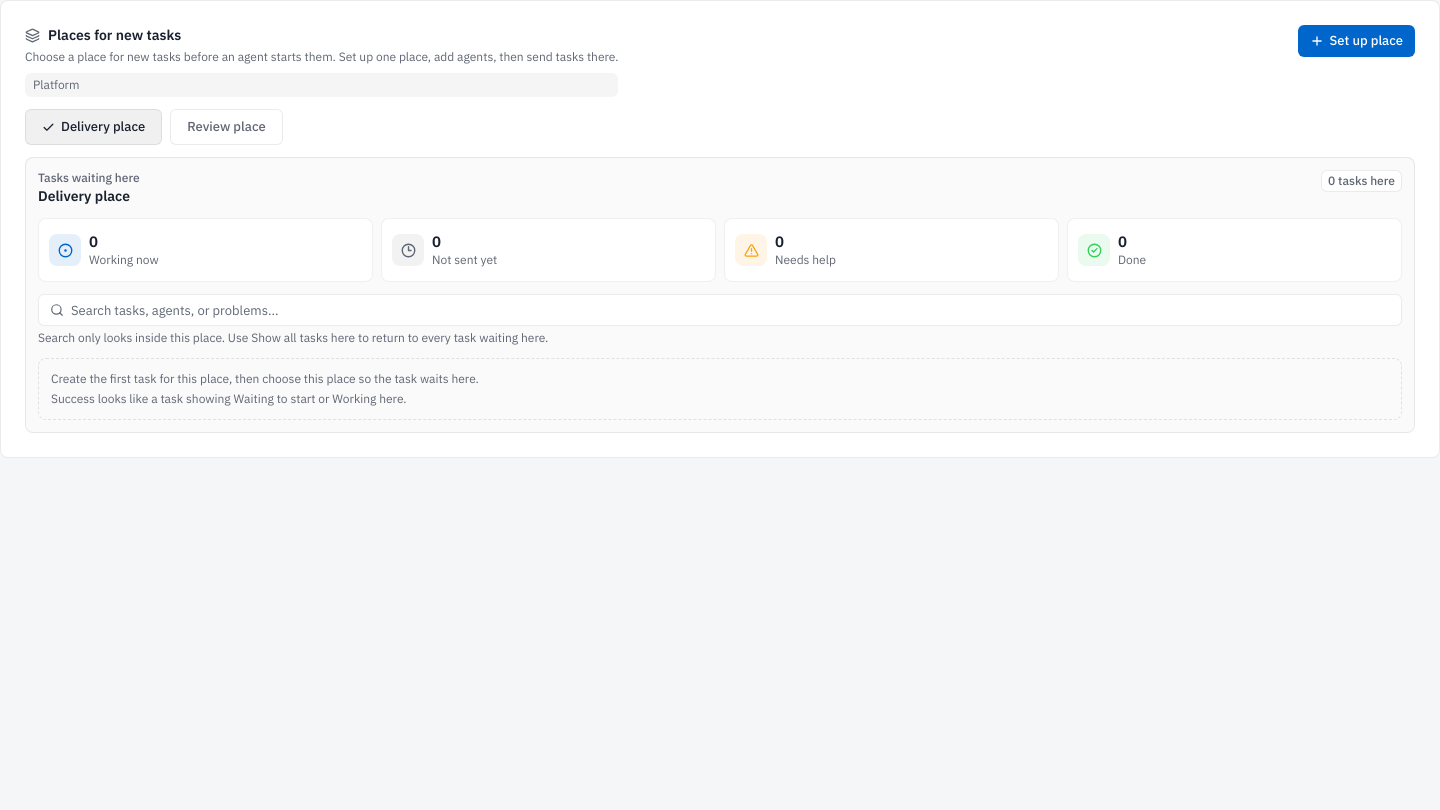
AgentGroupsPanel › explains task queue creation permission failures with a next step
The width and height of the screenshot is (1440, 810).
Click the button "Set up place" at [1356, 41], box x1=1298 y1=25 x2=1415 y2=57
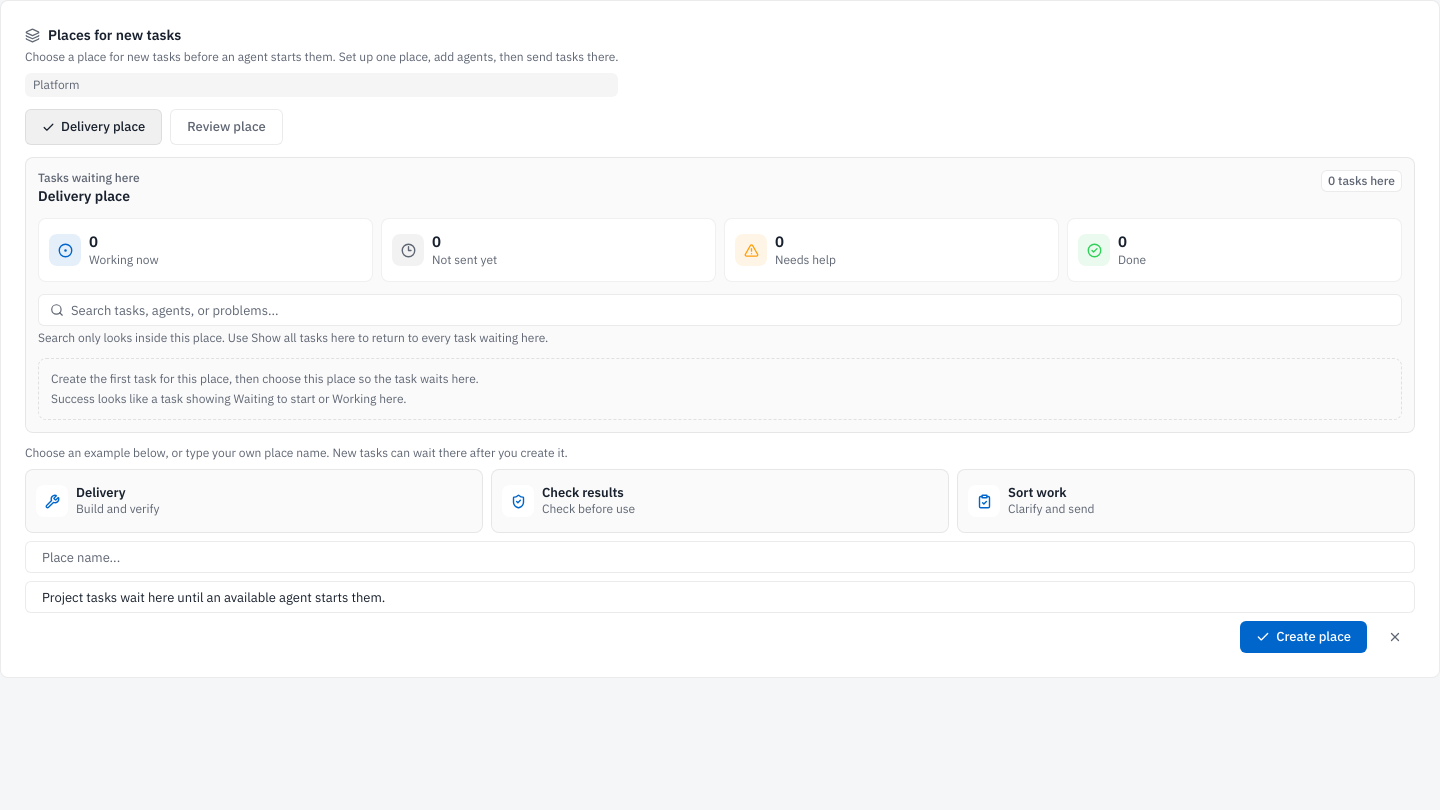
Result: the button "Create place" is shown at x1=1240 y1=621 x2=1367 y2=653
Type "Delivery Tasks" into the field labelled "Place name..." at [720, 557], box x1=25 y1=541 x2=1415 y2=573
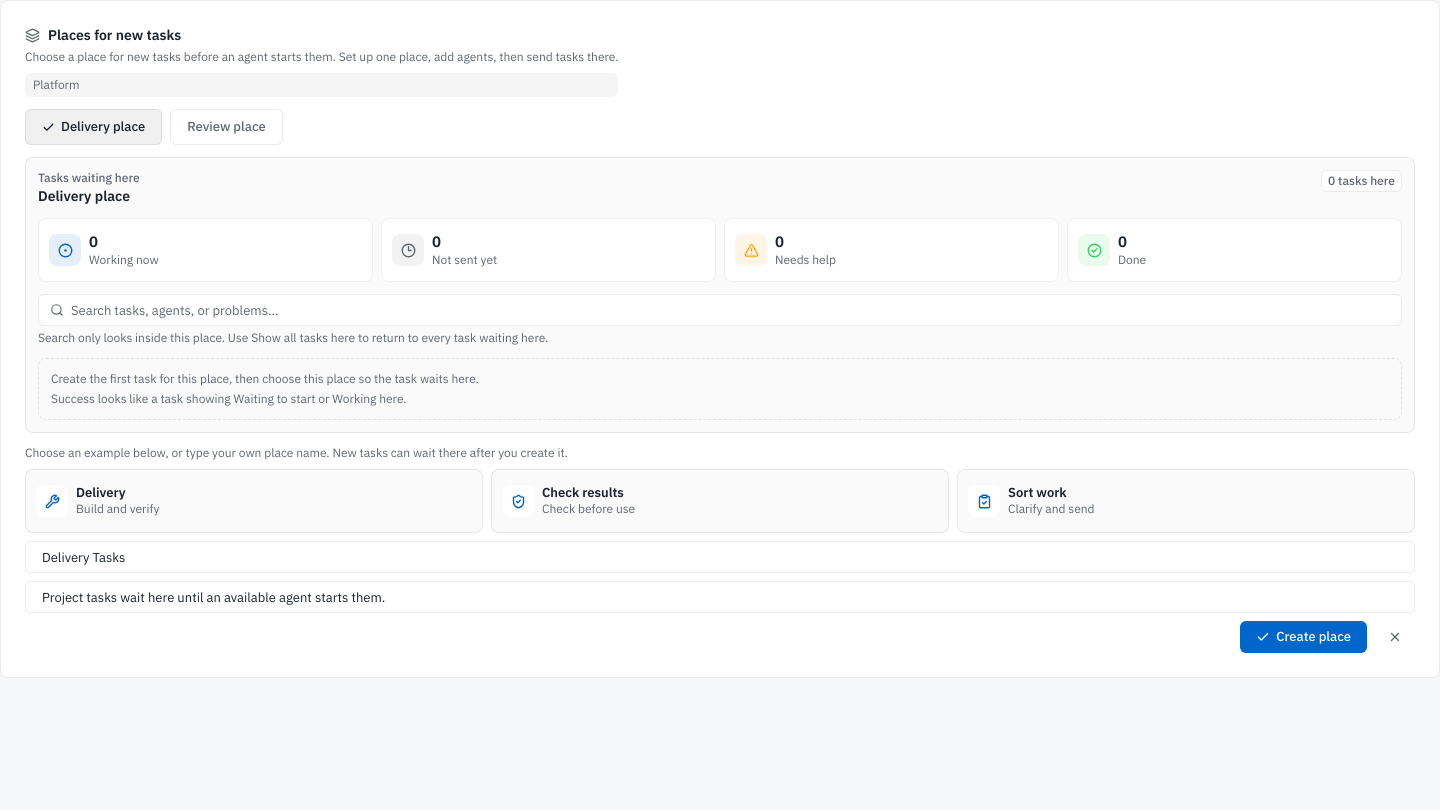
Replace the text in the field named "place description" with "Keep delivery tasks moving." at [720, 597], box x1=25 y1=581 x2=1415 y2=613
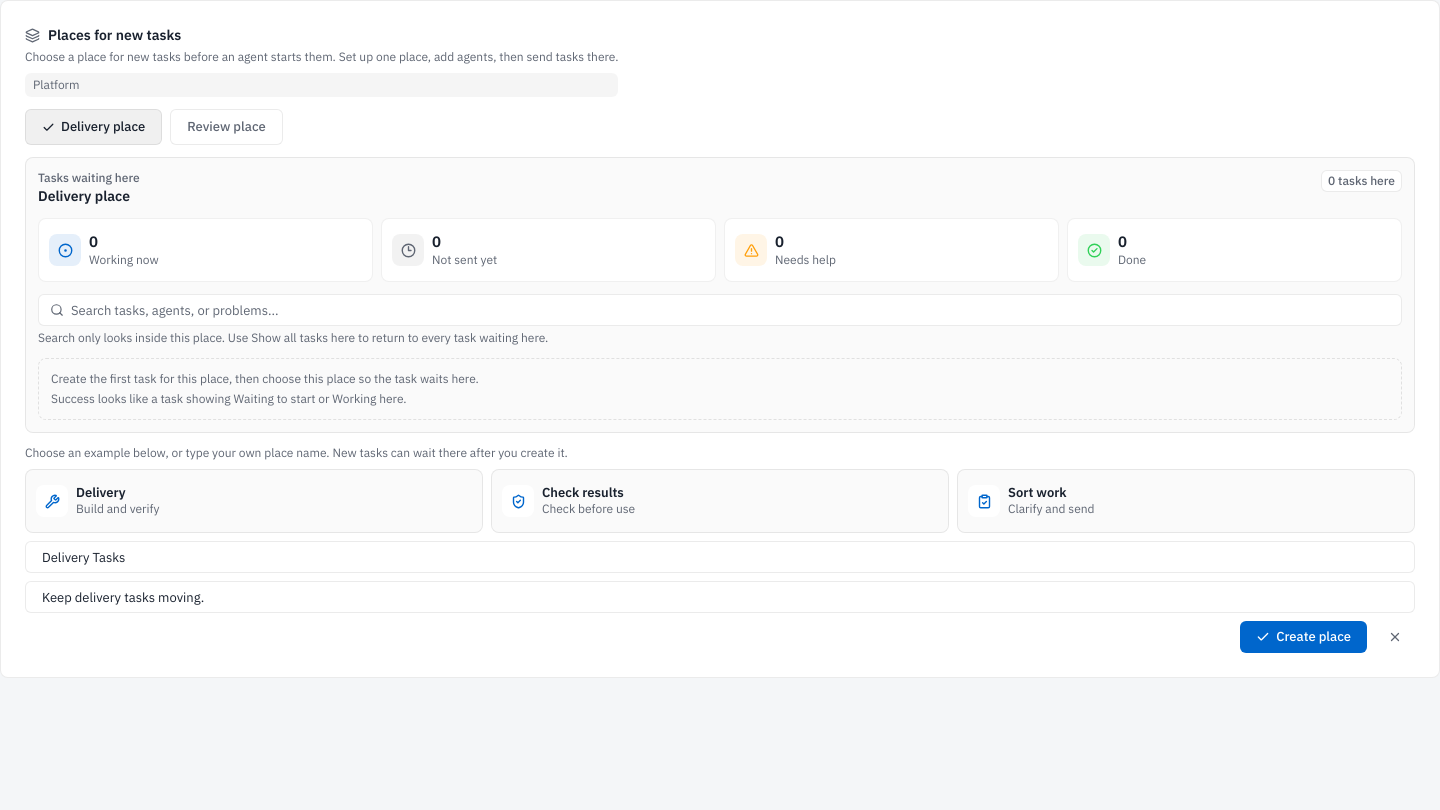
Submit the form named "create place", box x1=25 y1=445 x2=1415 y2=653
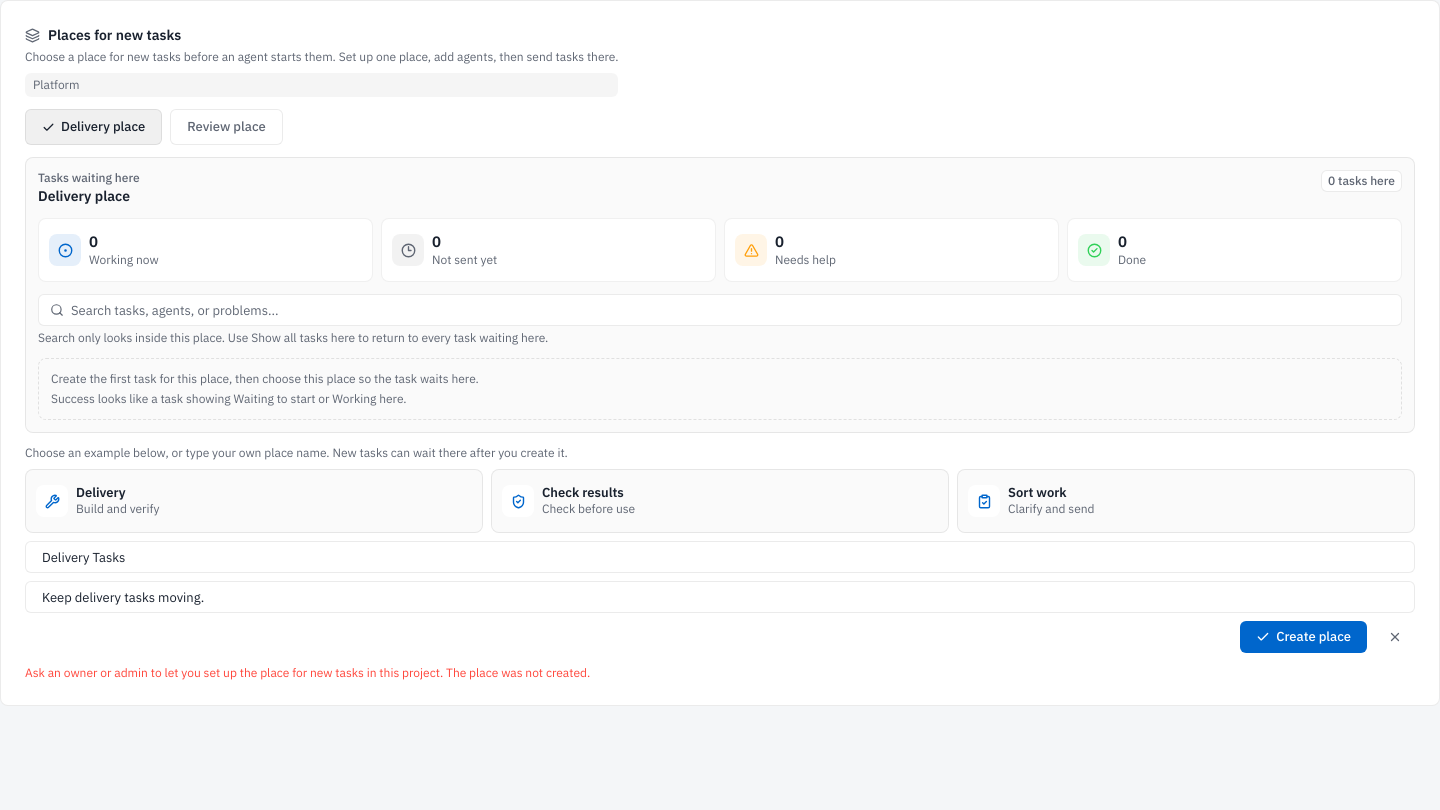
Expected: the message does not show "task queue", x1=25 y1=665 x2=590 y2=680
Result: the message shows "Ask an owner or admin to let you set up the place for new tasks in this project. The place was not created." at x1=25 y1=665 x2=590 y2=680
